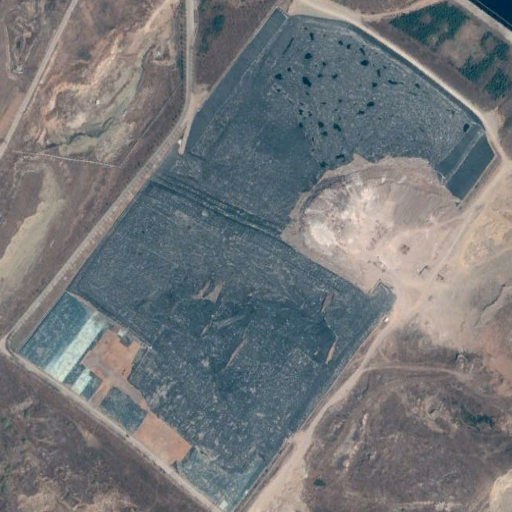lf: (9, 6, 505, 511)
